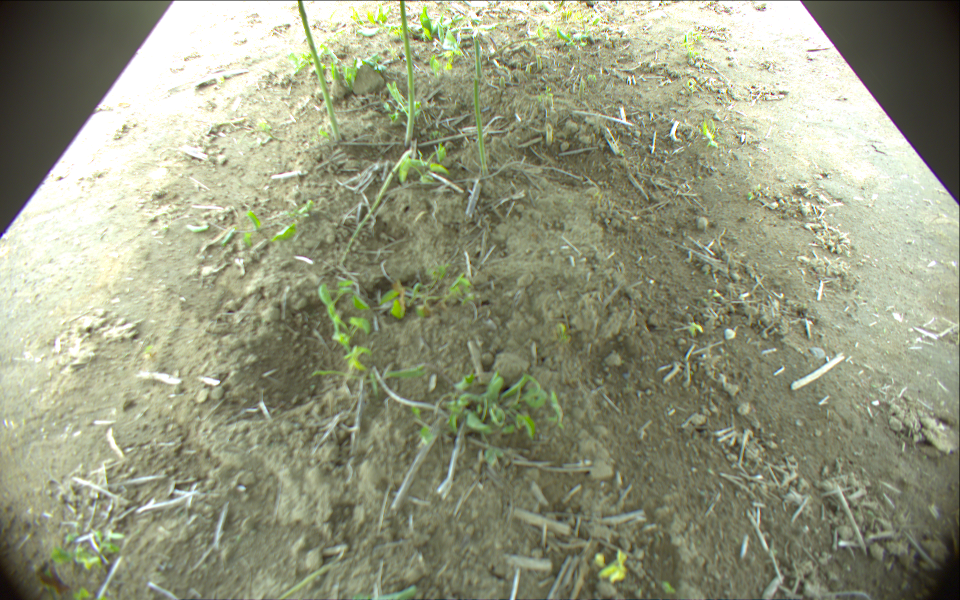aspa: (338, 150, 413, 265), (296, 1, 344, 142), (398, 1, 416, 147), (473, 77, 491, 188), (472, 36, 485, 82)
